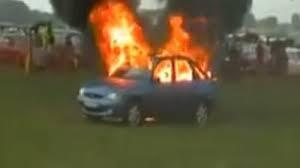fire: (89, 3, 215, 85)
